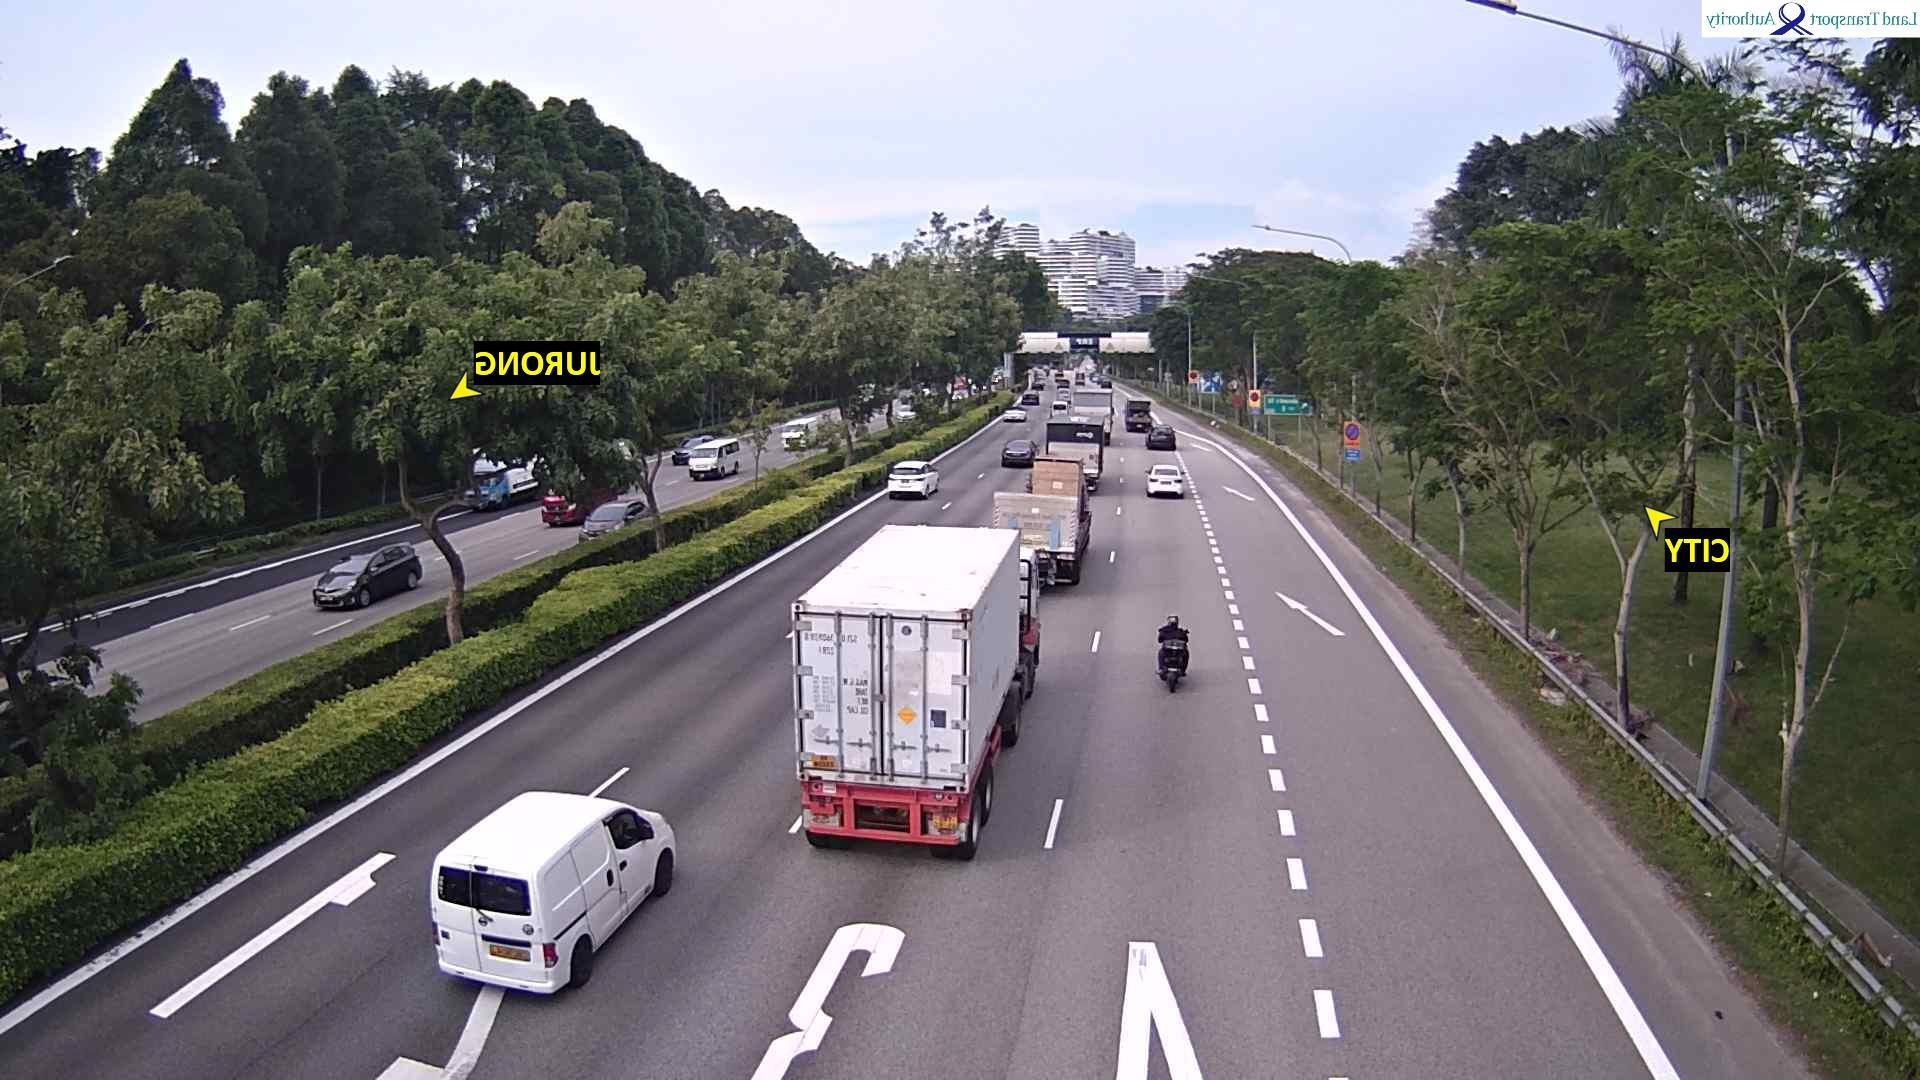incoming: (309, 544, 378, 616), (578, 506, 638, 545), (686, 442, 725, 479)
